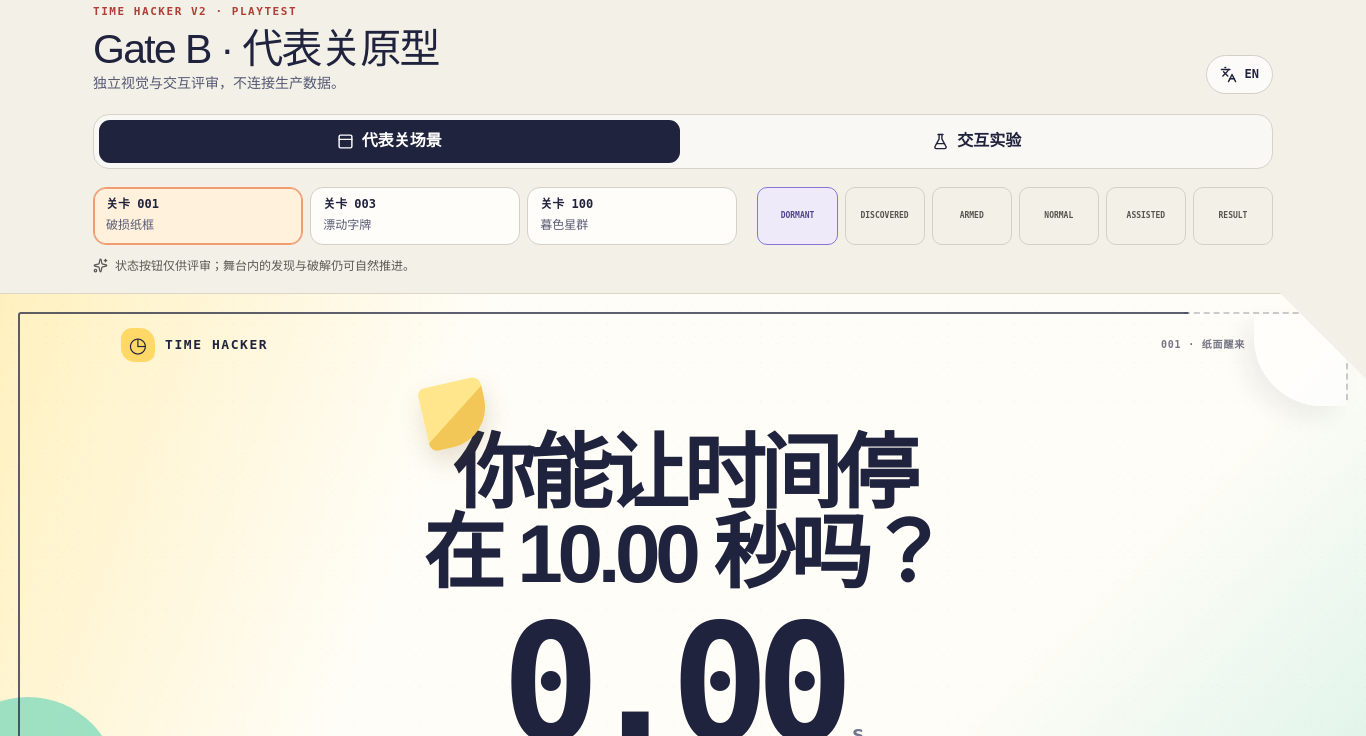
Test case: Gate B prototype lab › keeps the page route primary for level 100 and arms on a held V key
The width and height of the screenshot is (1366, 736).
Click the button "关卡 100 暮色星群". click: (632, 216)
box: left=527, top=187, right=737, bottom=245
(page scrolled)
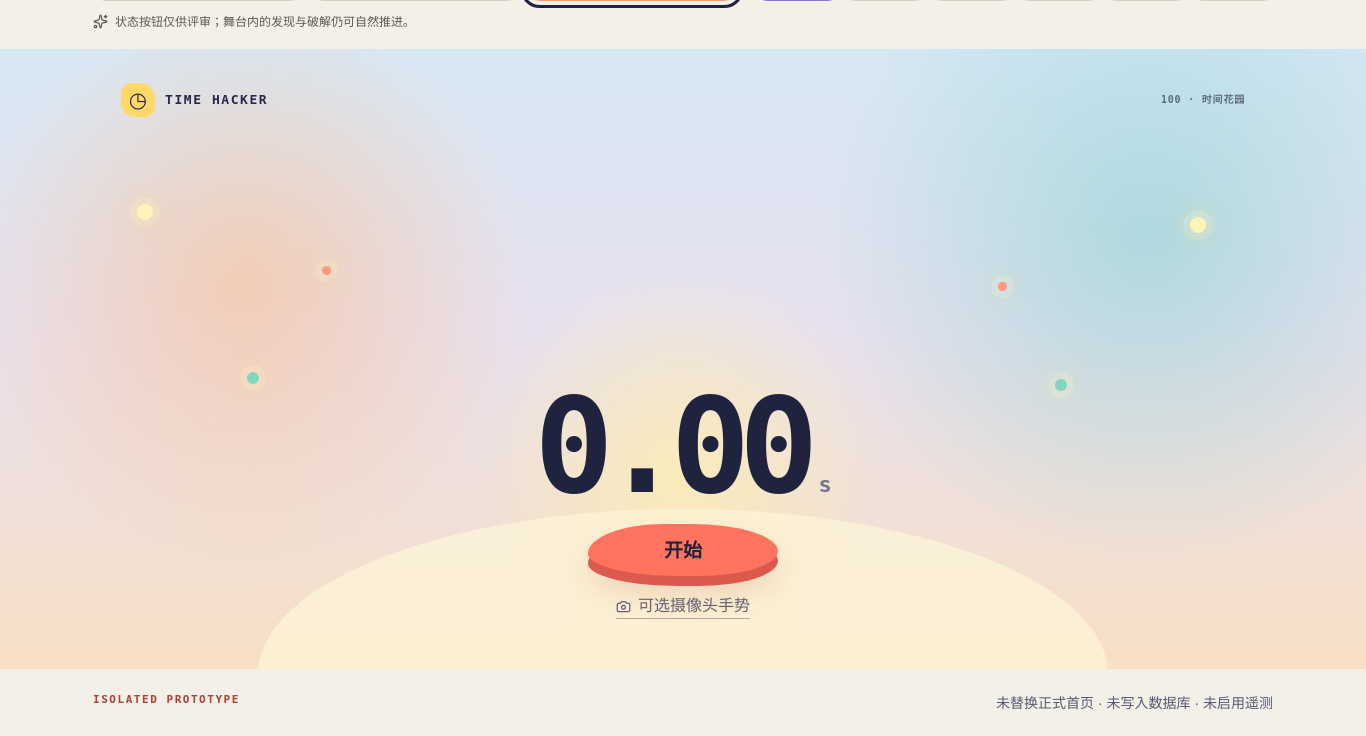
Press ArrowRight in the button named "左侧星群", box left=41, top=192, right=396, bottom=514
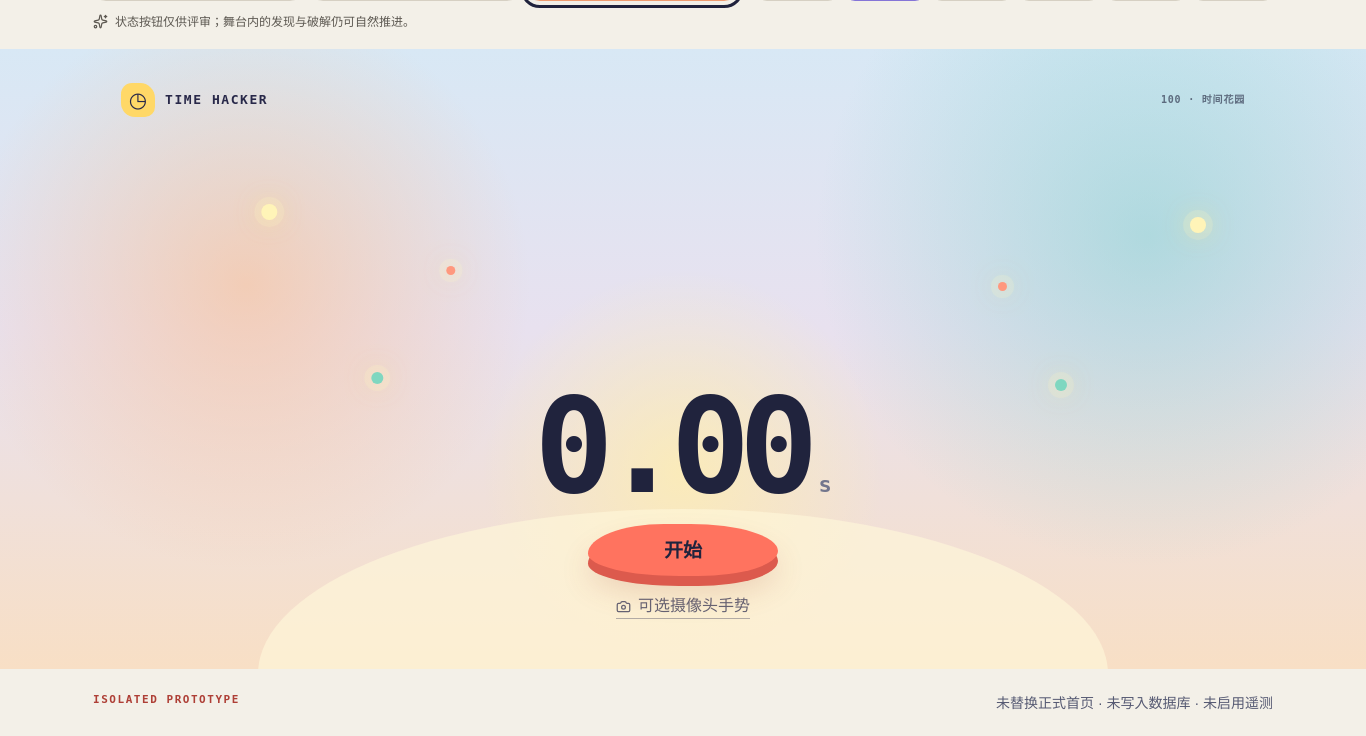
Press ArrowLeft in the button named "右侧星群", box left=970, top=192, right=1325, bottom=514
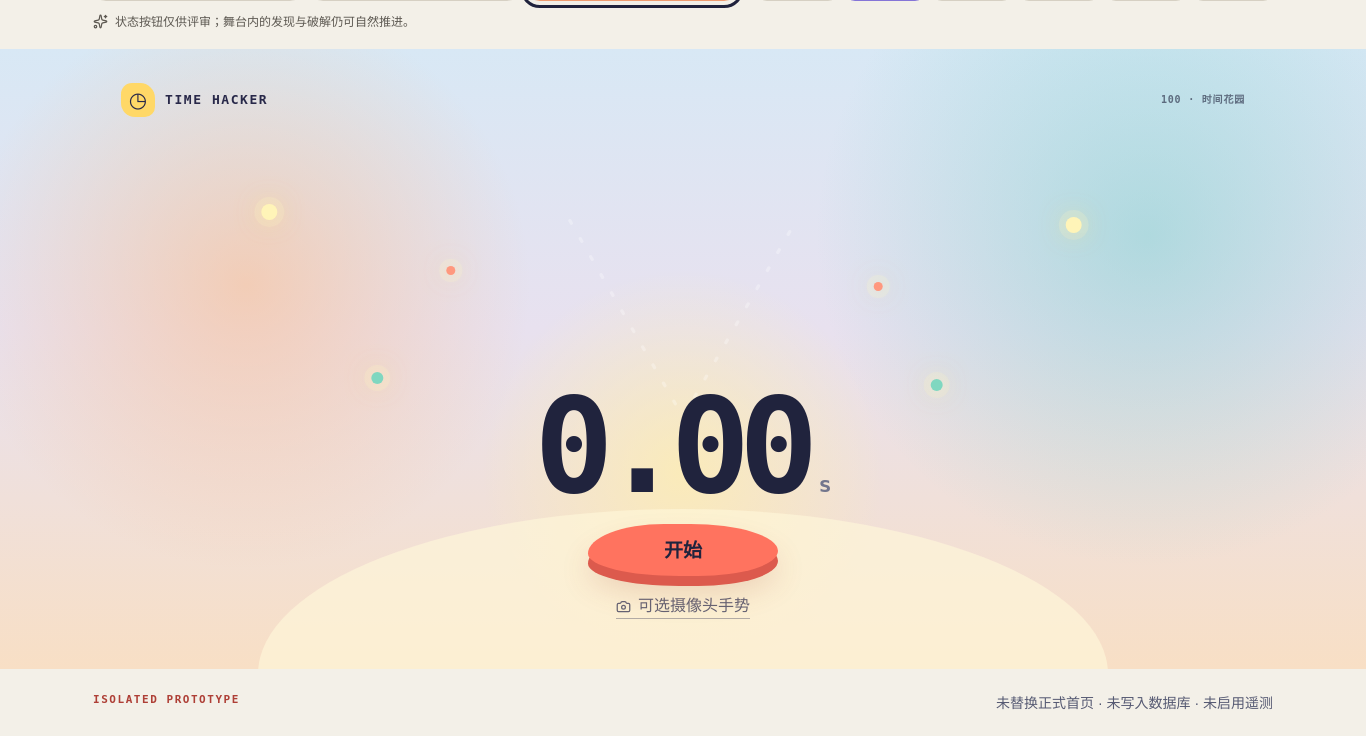
Press v in the element with test id "prototype-stage-100"
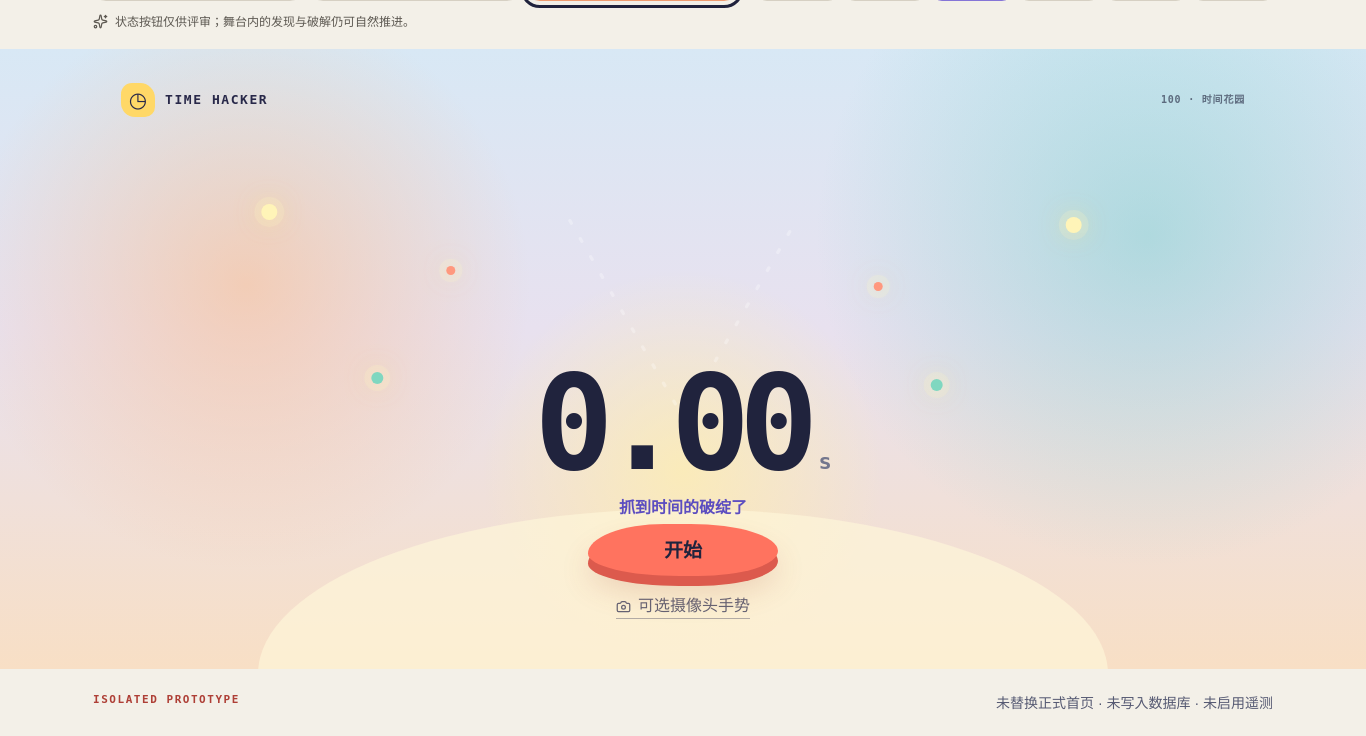
Expected: the button "可选摄像头手势" is shown, left=616, top=594, right=750, bottom=619
Expected: the text "抓到时间的破绽了" is shown, left=619, top=496, right=747, bottom=520
